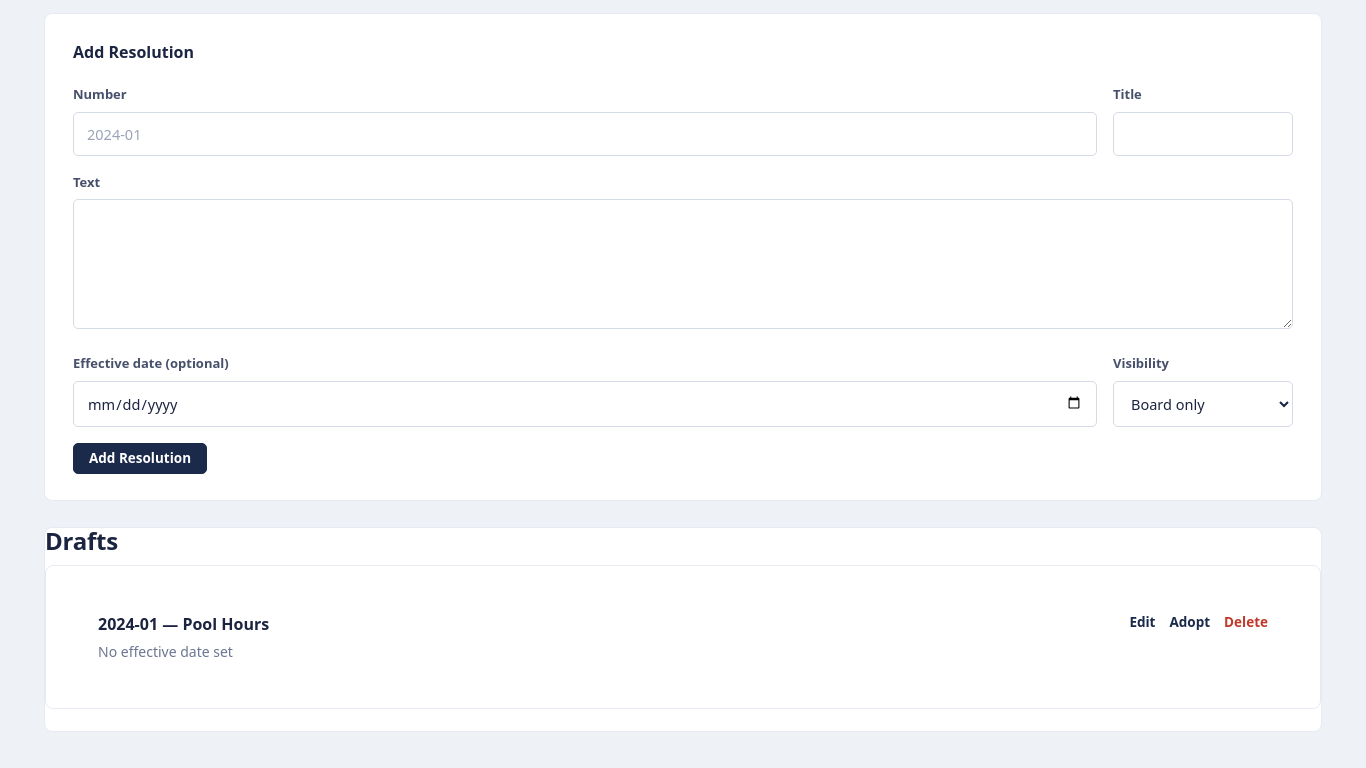
Test case: ResolutionsManager › surfaces the 409 text when adopting an already-in-force resolution
(page scrolled)
Expected: the text "2024-01 — Pool Hours" is shown, [98,613,269,635]
Click the button with aria-label "adopt resolution:".
click(1190, 622)  # box [1170,612,1210,633]
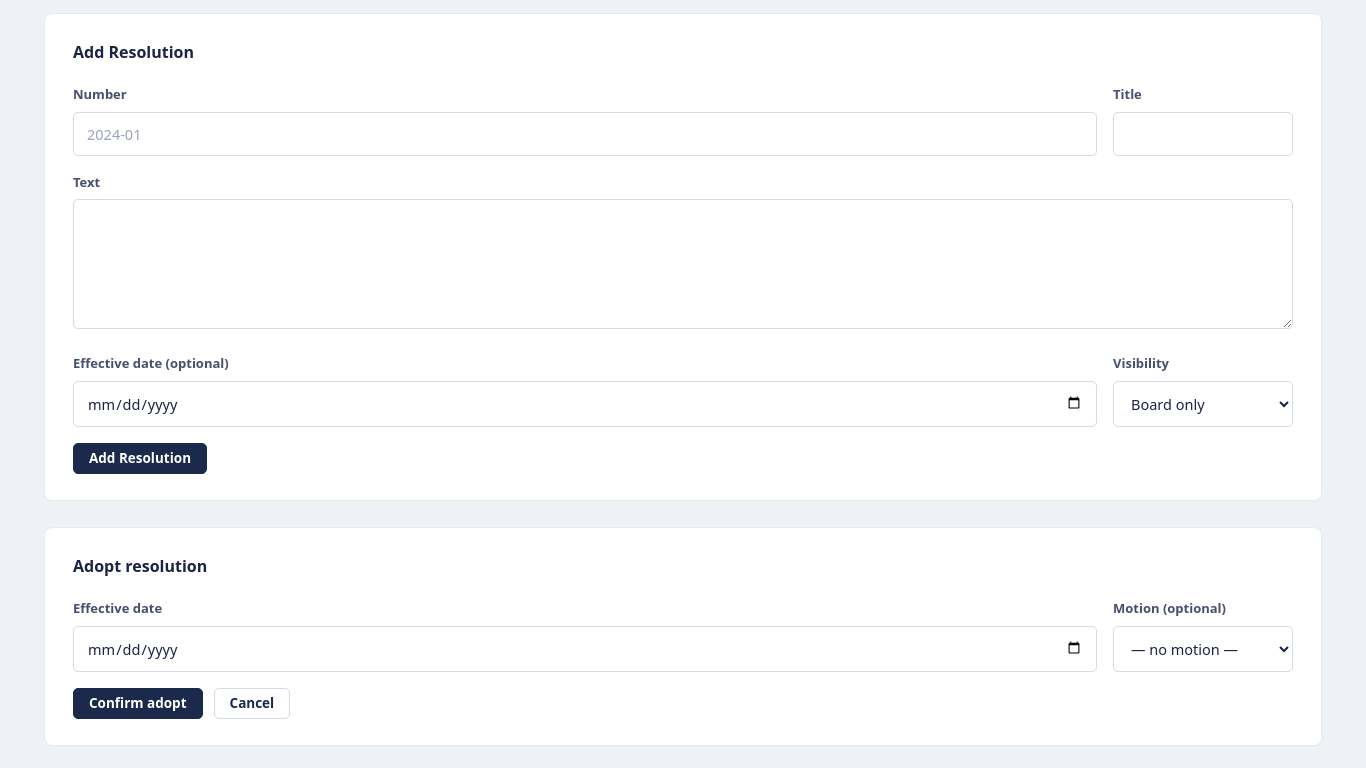
Type "2026-09-01" into the date field labelled "Effective date".
click(585, 649); type("2026-09-01")  # box [73,626,1097,672]
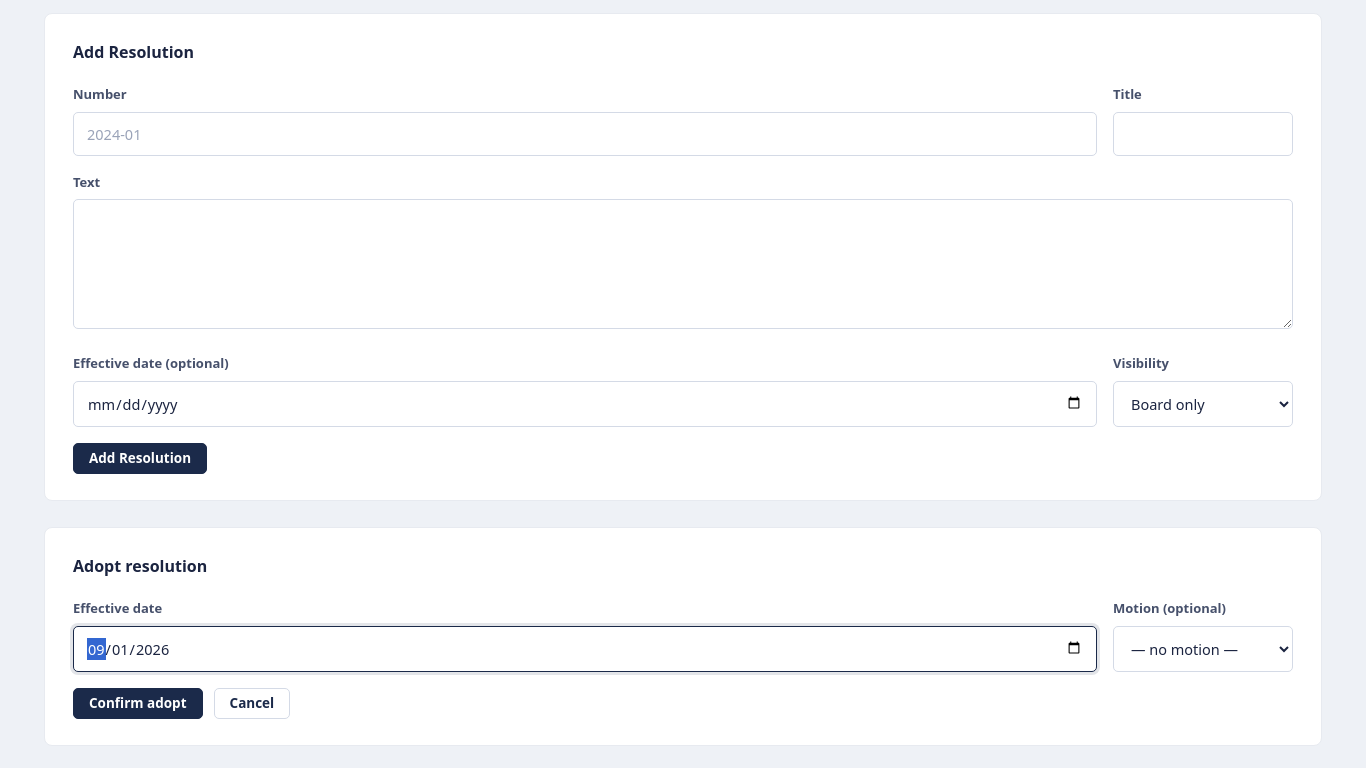
Click the button "Confirm adopt".
click(138, 703)  # box [73,688,202,719]
(page scrolled)
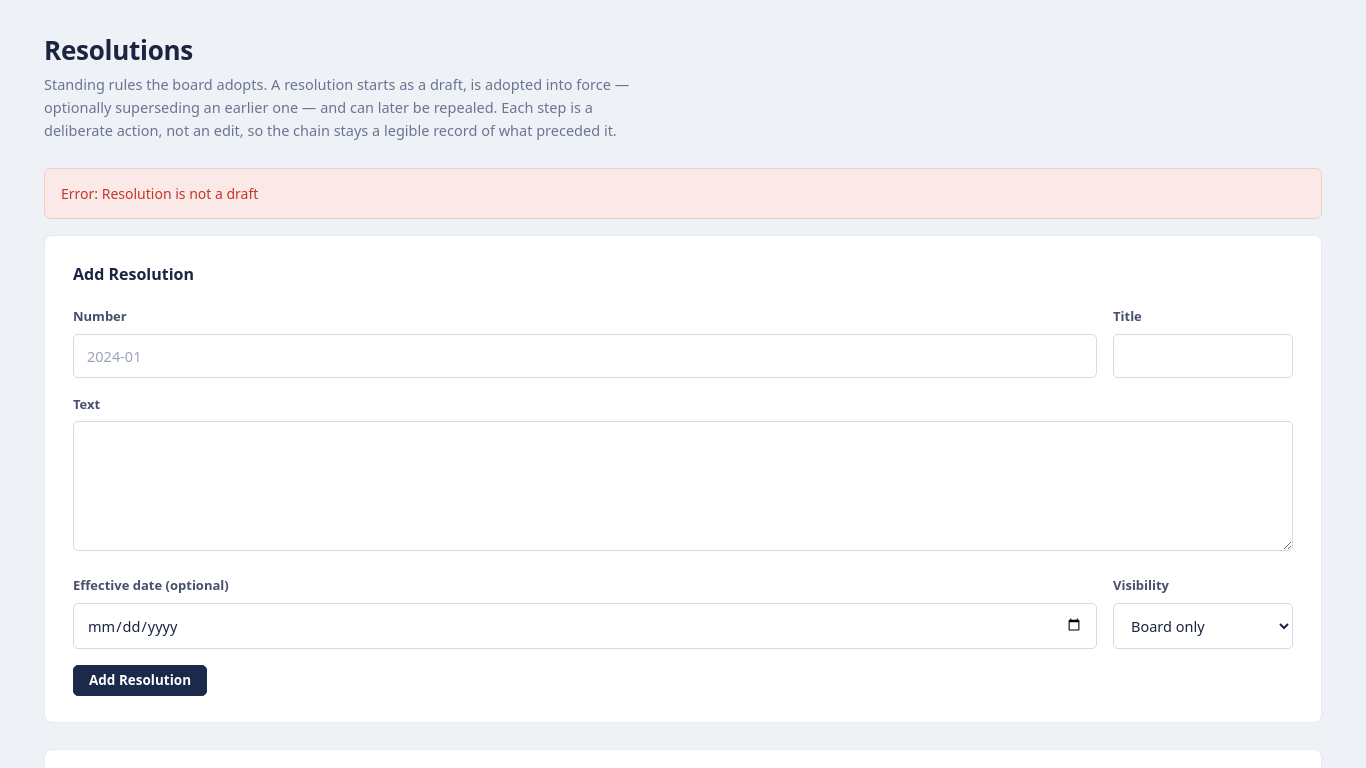
Result: the text "Error: Resolution is not a draft" is shown at [44,168,1322,219]
